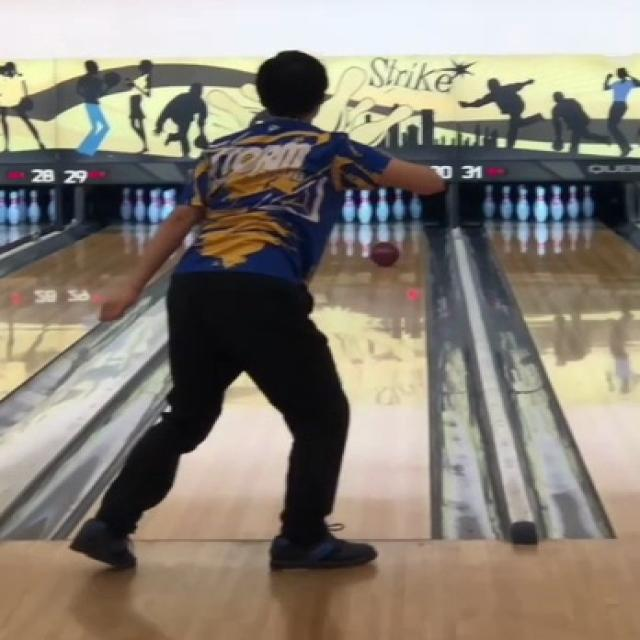alley: (311, 220, 427, 537), (138, 376, 289, 539)
balls: (368, 242, 399, 266)
bottle: (342, 189, 417, 223)
